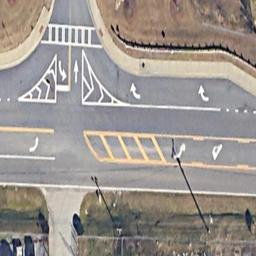Chevron: (82, 127, 171, 168), (81, 50, 125, 109), (17, 50, 57, 103)
Crosswalk: (38, 20, 104, 49)
Double Solid Yellow Line: (160, 132, 256, 144), (166, 160, 256, 170), (1, 123, 54, 132), (68, 45, 72, 84)
Left Turn Arrow: (27, 134, 42, 151), (57, 58, 67, 83), (174, 142, 187, 159)
Right Turn Arrow: (197, 83, 212, 103), (128, 83, 142, 99)
Solid White Line: (129, 103, 224, 113), (1, 152, 56, 160)
Stopline: (58, 85, 70, 89)
White Dashed Line: (225, 107, 256, 113)
